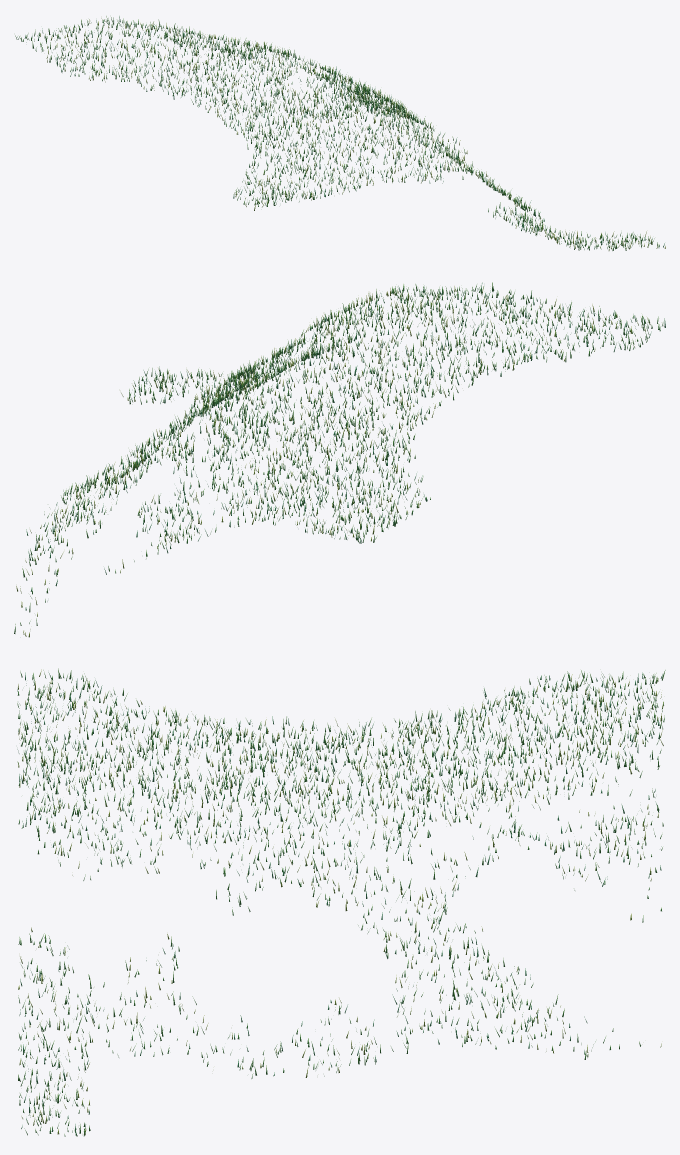
The picture shows the model from 3 angles, top to bottom: view 1: azimuth 30°, elevation 25°; view 2: azimuth 150°, elevation 25°; view 3: azimuth 270°, elevation 25°; orthographic projection. The views are drawn at different scales.
Parts seen in each view (by area): view 1: gc_31; view 2: gc_31; view 3: gc_31.
Part boxes in pixels (x1,y1,x2,y2): gc_31: [15, 16, 665, 250]; gc_31: [14, 282, 665, 637]; gc_31: [17, 668, 665, 1136].
Size of the model in its own units: 18.22 by 6.3 by 18.18.
Materials: 1 (1 with a texture image).
